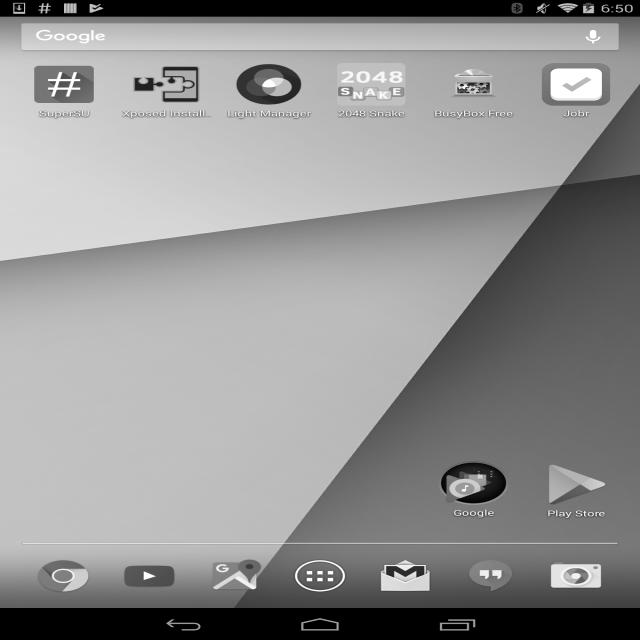EditText: (17, 20, 627, 52)
ImageView: (331, 64, 407, 107), (538, 64, 610, 107), (541, 460, 612, 502), (28, 62, 106, 100), (202, 556, 272, 594), (125, 67, 198, 101), (374, 556, 439, 594), (442, 466, 501, 499), (230, 64, 289, 95)
TextView: (425, 105, 518, 123), (219, 106, 318, 120), (538, 509, 608, 520), (36, 109, 101, 120), (450, 505, 506, 516)
